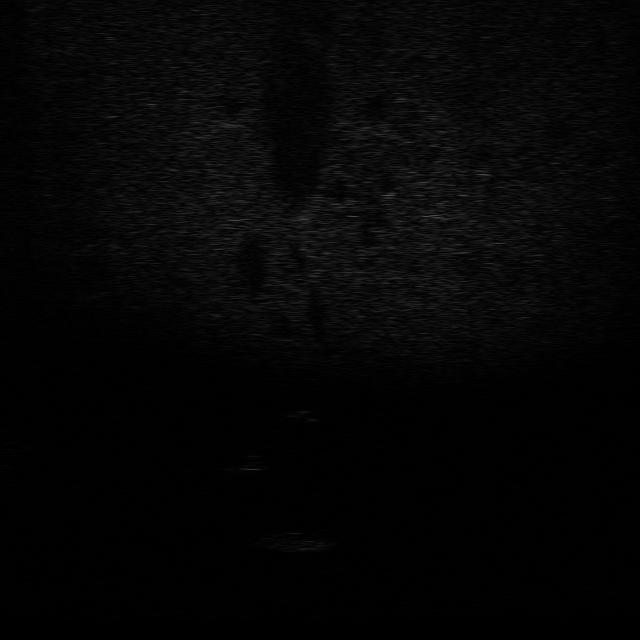ball: (270, 388, 334, 438)
circle cage: (221, 450, 270, 476)
human body: (274, 387, 330, 440)
